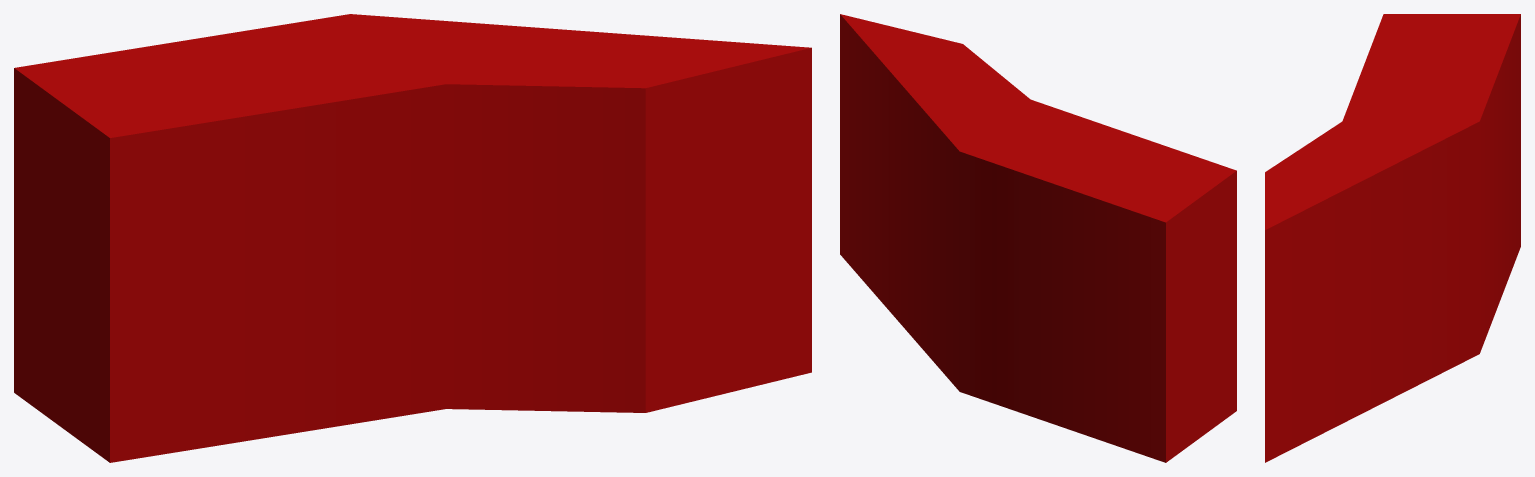
File: UCX_tunnelWallConcaveB.fbx
The picture shows the model from 3 angles, left to right: view 1: azimuth 30°, elevation 25°; view 2: azimuth 150°, elevation 25°; view 3: azimuth 270°, elevation 25°; orthographic projection. The views are drawn at different scales.
Parts seen in each view (by area): view 1: UCX_tunnelWallConcaveB; view 2: UCX_tunnelWallConcaveB; view 3: UCX_tunnelWallConcaveB.
Part boxes in pixels (left/top/right/bottom): UCX_tunnelWallConcaveB: left=14, top=14, right=811, bottom=462; UCX_tunnelWallConcaveB: left=840, top=14, right=1236, bottom=462; UCX_tunnelWallConcaveB: left=1265, top=14, right=1520, bottom=462.
Bounding box in the file's own units: 6 × 3.01 × 3.
